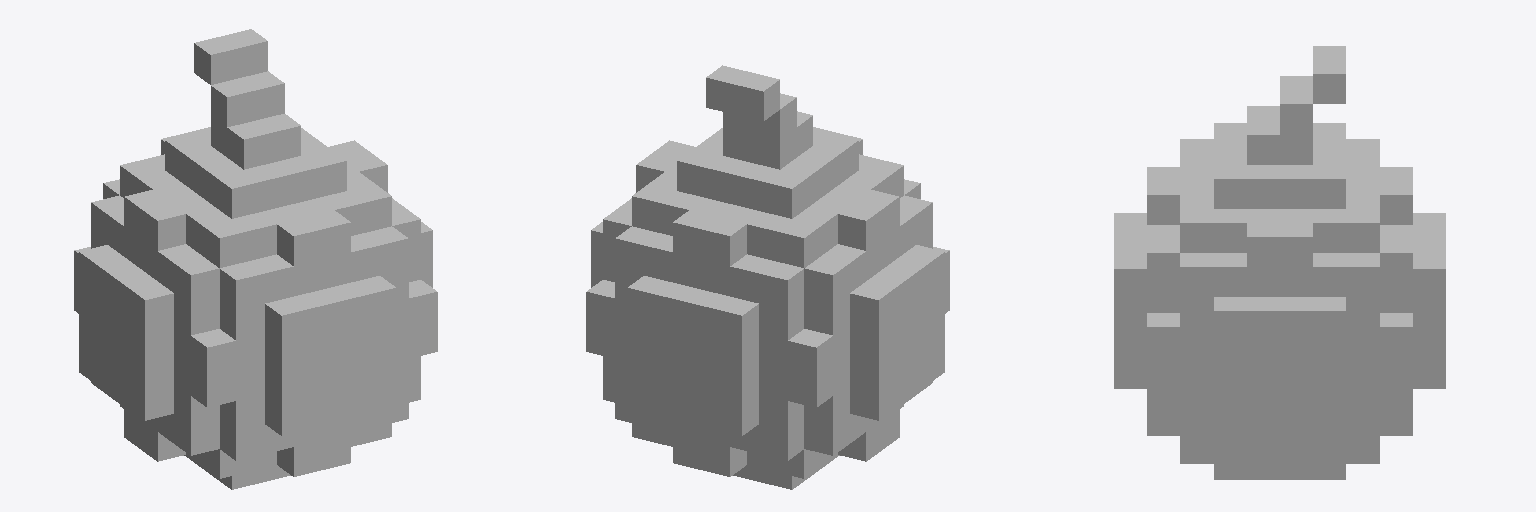
The model's file is 2_4 coco.obj.
3 renders of one model, left to right at view 1: azimuth 30°, elevation 25°; view 2: azimuth 150°, elevation 25°; view 3: azimuth 270°, elevation 25°, orthographic.
Parts seen in each view (by area): view 1: object 1; view 2: object 1; view 3: object 1.
Part boxes in pixels (x1,y1,x2,y2): object 1: (74, 29, 437, 489); object 1: (586, 65, 949, 489); object 1: (1114, 46, 1445, 479).
Size of the model in its own units: 1 by 1.3 by 1.